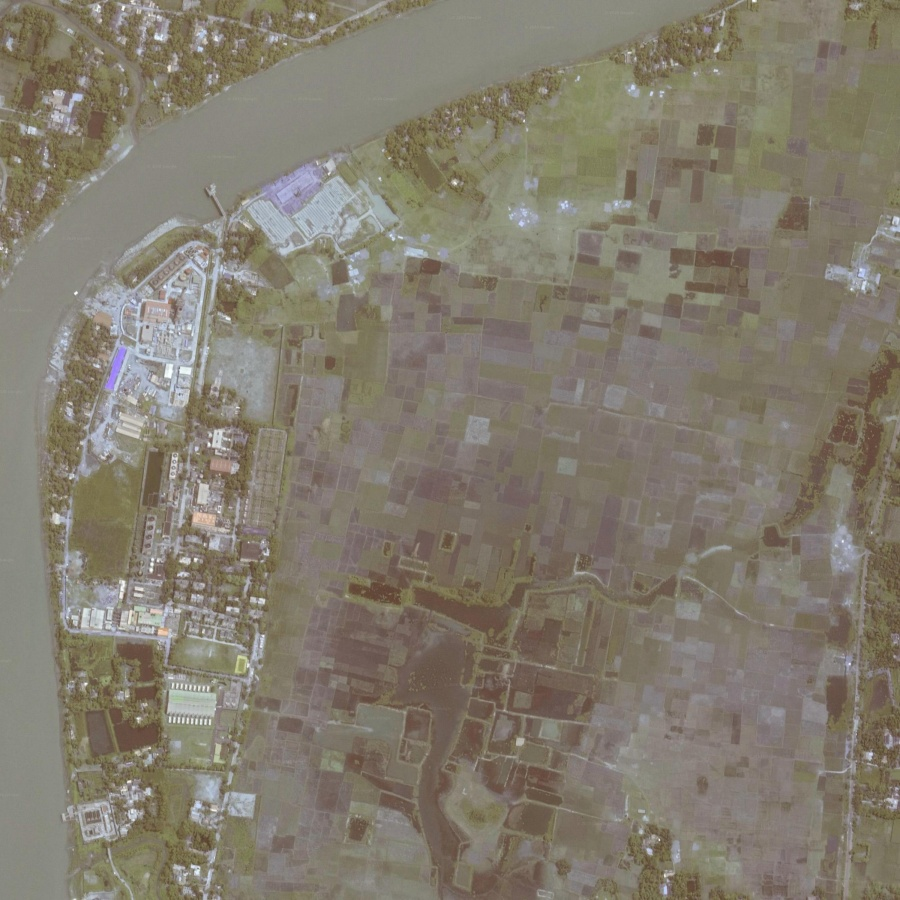PowerPlant: (132, 252, 203, 407)
